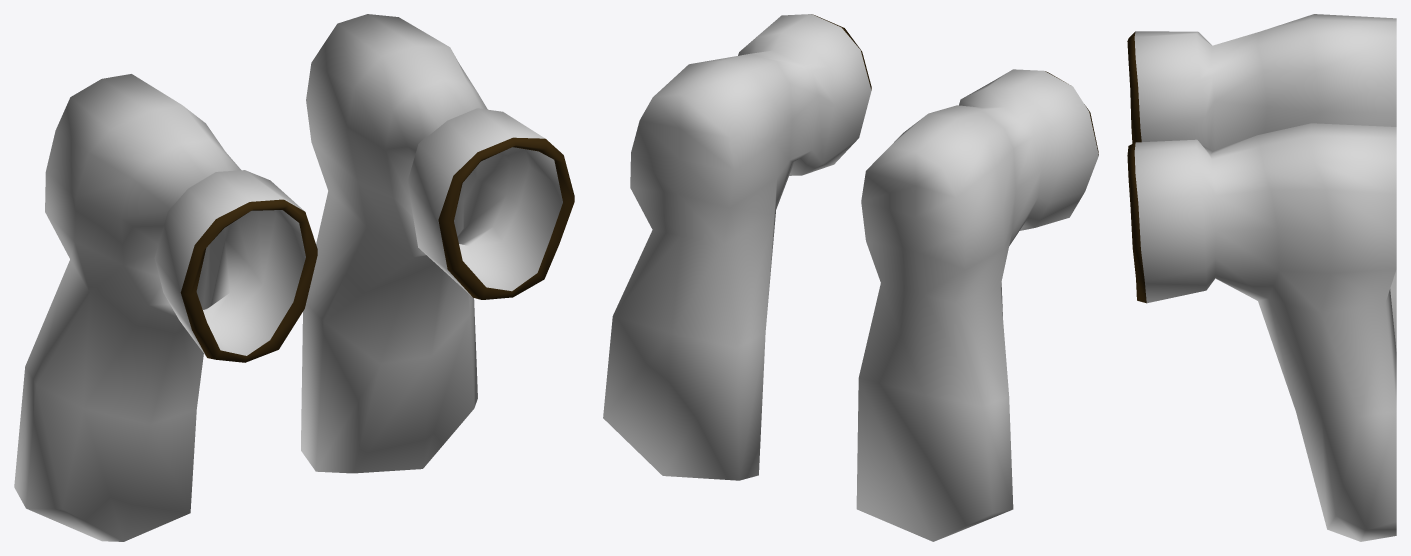
Rendered from boots.fbx.
The picture shows the model from 3 angles, left to right: view 1: azimuth 30°, elevation 25°; view 2: azimuth 150°, elevation 25°; view 3: azimuth 270°, elevation 25°; orthographic projection. The views are drawn at different scales.
Visible parts, largest first — view 1: boots; view 2: boots; view 3: boots.
Boxes of the visible parts, left/top/right/bottom form: boots: left=14, top=14, right=574, bottom=541; boots: left=603, top=14, right=1098, bottom=541; boots: left=1127, top=14, right=1396, bottom=541.
Size of the model in its own units: 0.3189 by 0.3005 by 0.1842.
